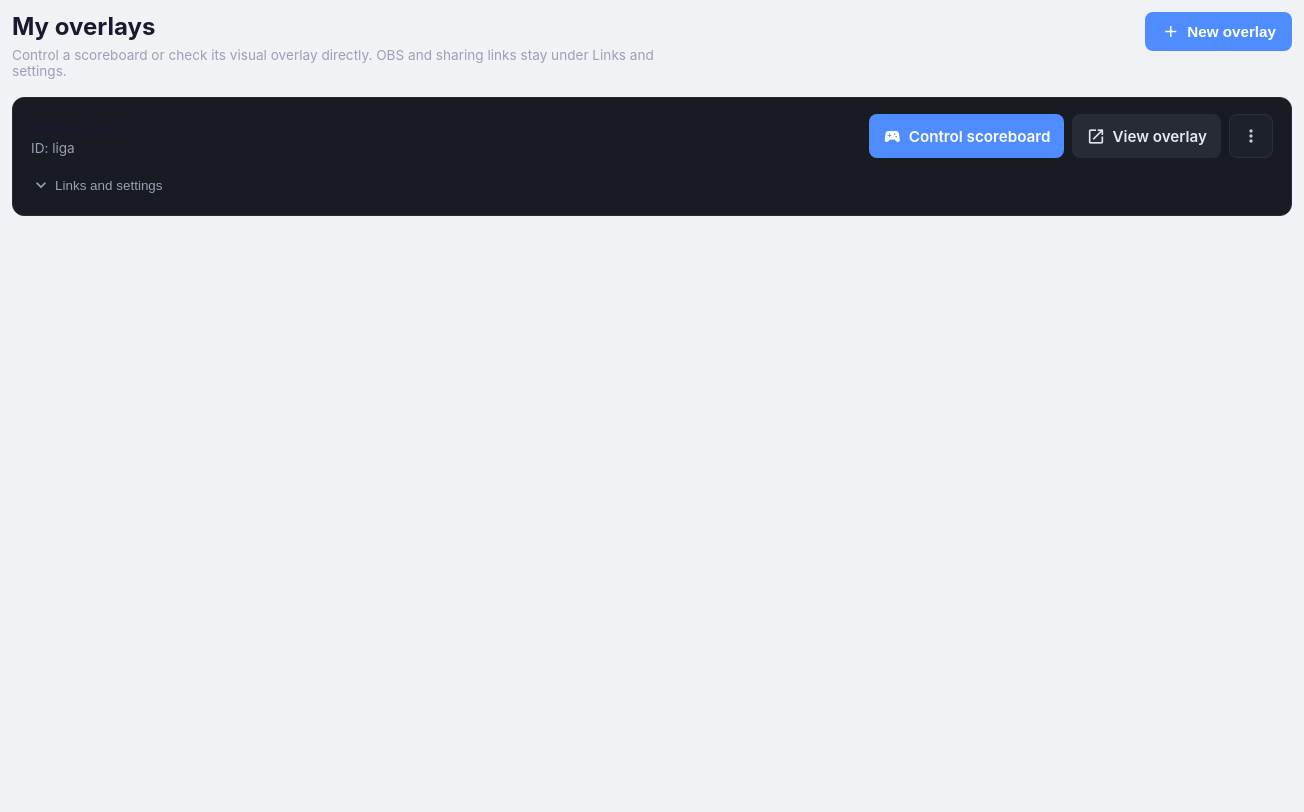
it: OverlaysPage flows › shows the new link, not the revoked one, when the refresh after it fails
Click the button "Links and settings": (99, 185) [31, 166, 167, 204]
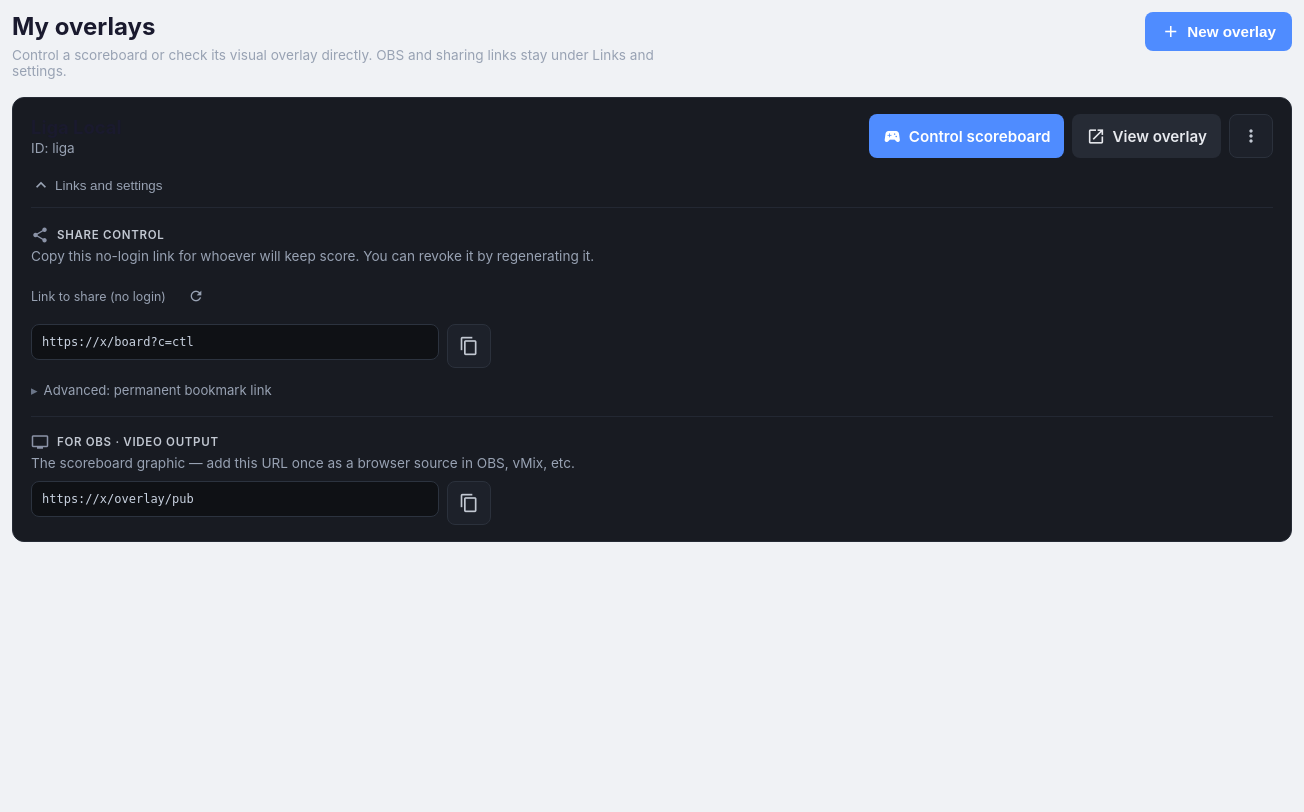
Click the button named "regenerate": (196, 296) [174, 274, 218, 318]
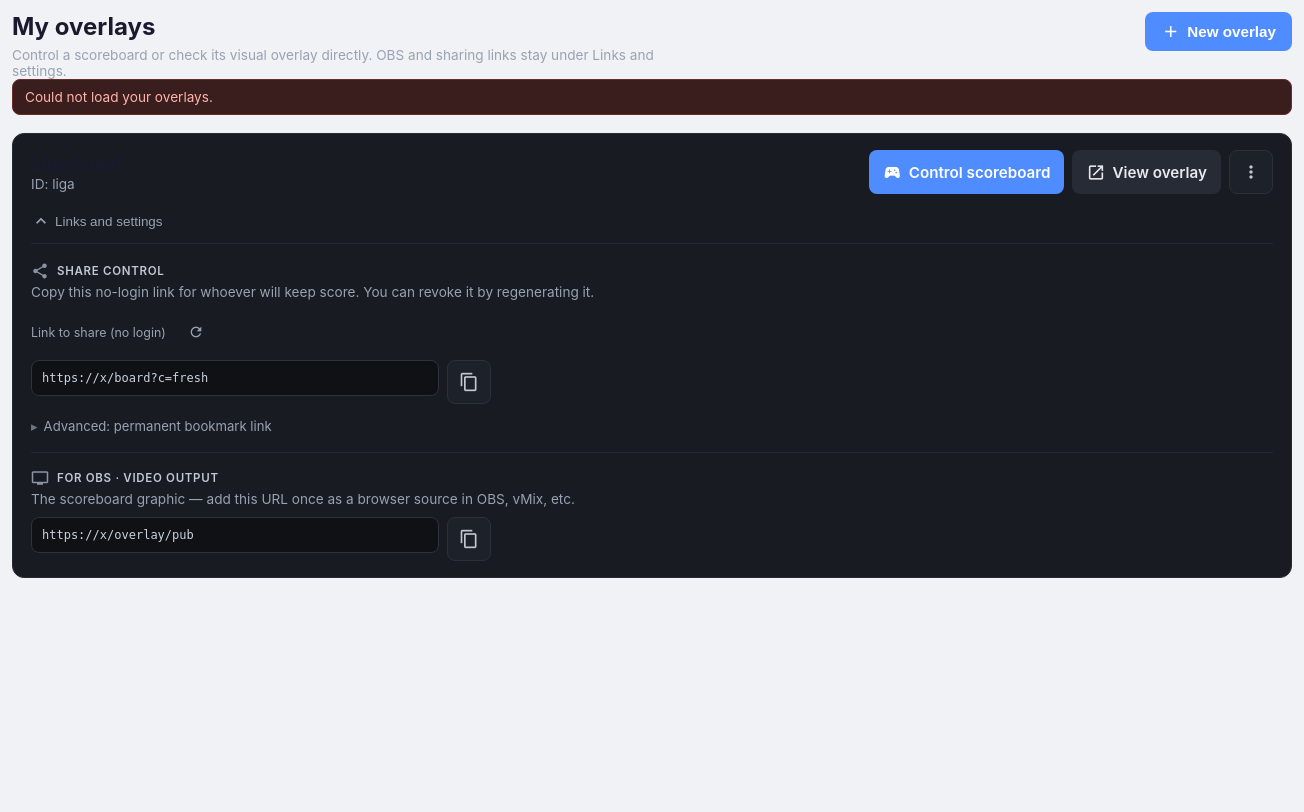
Expected: the field "https://x/board?c=fresh" is shown, [31, 360, 439, 396]
Expected: the field "https://x/board?c=ctl" is gone
Expected: the text "Could not load your overlays." is shown, [12, 79, 1292, 115]
